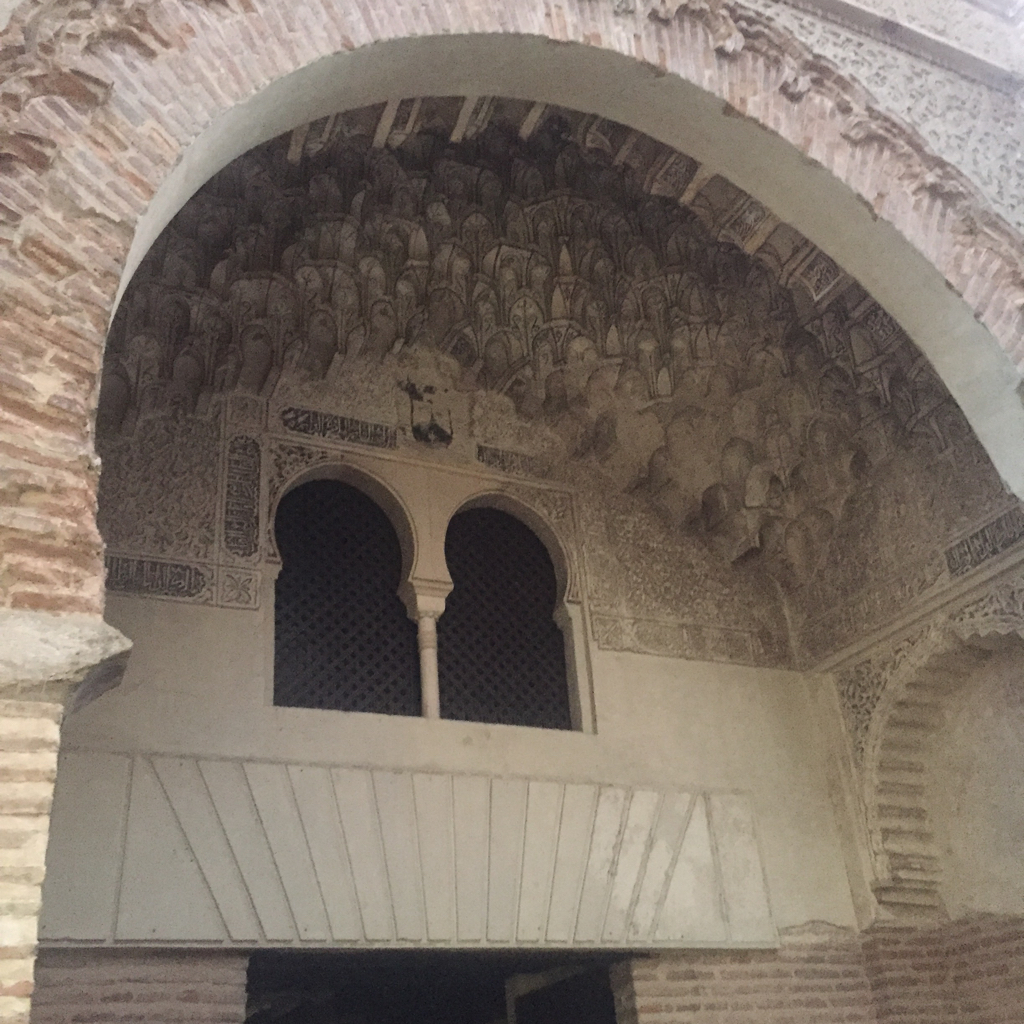arco-herradura: (264, 457, 430, 612), (430, 481, 582, 628)
dintel-adovelado: (145, 749, 712, 952)
